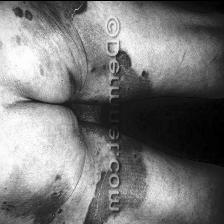Toxin: (28, 167, 68, 224), (123, 136, 147, 214), (121, 48, 154, 96), (4, 0, 32, 50), (48, 0, 90, 33), (87, 171, 109, 224)
